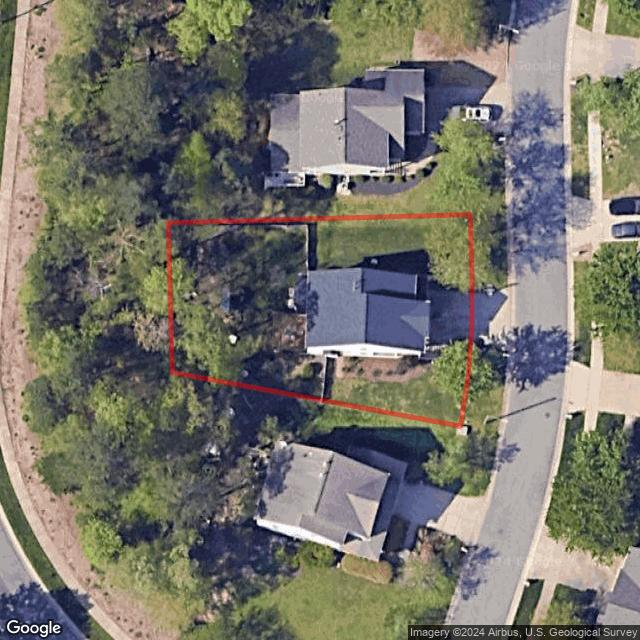Driveway: (417, 278, 472, 346)
Extra-Driveway: (471, 286, 509, 351)
Extra-Lawn: (460, 338, 507, 432), (470, 213, 508, 291)
House: (306, 268, 431, 358)
Lawn: (170, 214, 475, 427)
Other: (261, 312, 432, 383)
